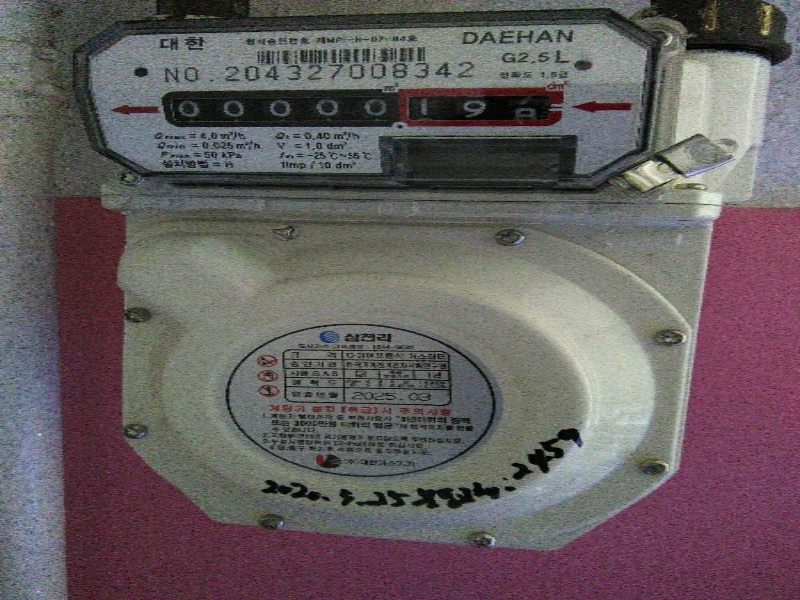meter: (64, 13, 668, 189)
